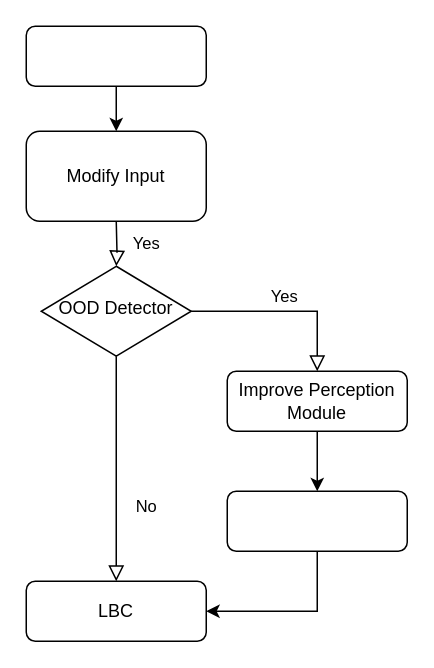
Some shapes in this 434 by 668 pixel diagram are drawn without their labels. Here are the shapes that lost their labels. From the top down, the box of each, then its label:
(25, 25, 206, 86): Original Camera Input
(226, 490, 407, 551): Impose Safety Mode Rules
